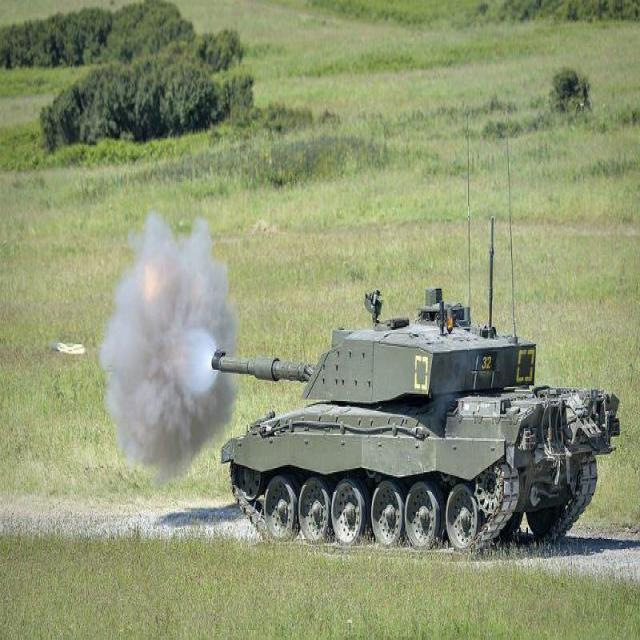Tanks: (215, 294, 638, 592)
